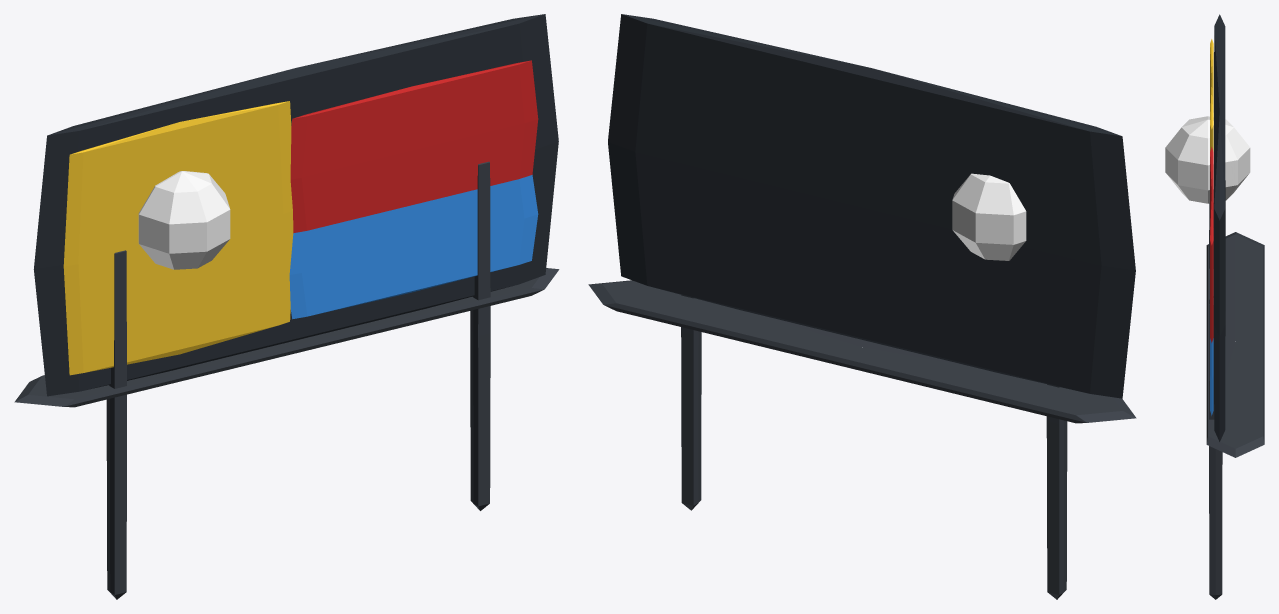
The model's file is r-billboard.glb.
The picture shows the model from 3 angles, left to right: view 1: azimuth 30°, elevation 25°; view 2: azimuth 150°, elevation 25°; view 3: azimuth 270°, elevation 25°; orthographic projection. The views are drawn at different scales.
Visible parts, largest first — view 1: p; view 2: p; view 3: p.
Boxes of the visible parts, x1,y1,x2,y2 form: p: (14, 14, 559, 599); p: (588, 14, 1136, 599); p: (1165, 14, 1264, 599).
Size of the model in its own units: 5.4 by 4.6 by 1.
